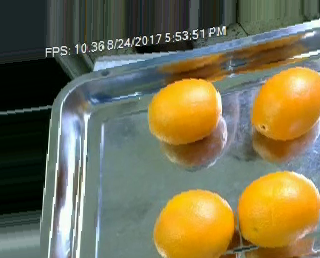Orange: (235, 170, 320, 248), (151, 187, 235, 258), (251, 66, 320, 140), (147, 78, 221, 144)
